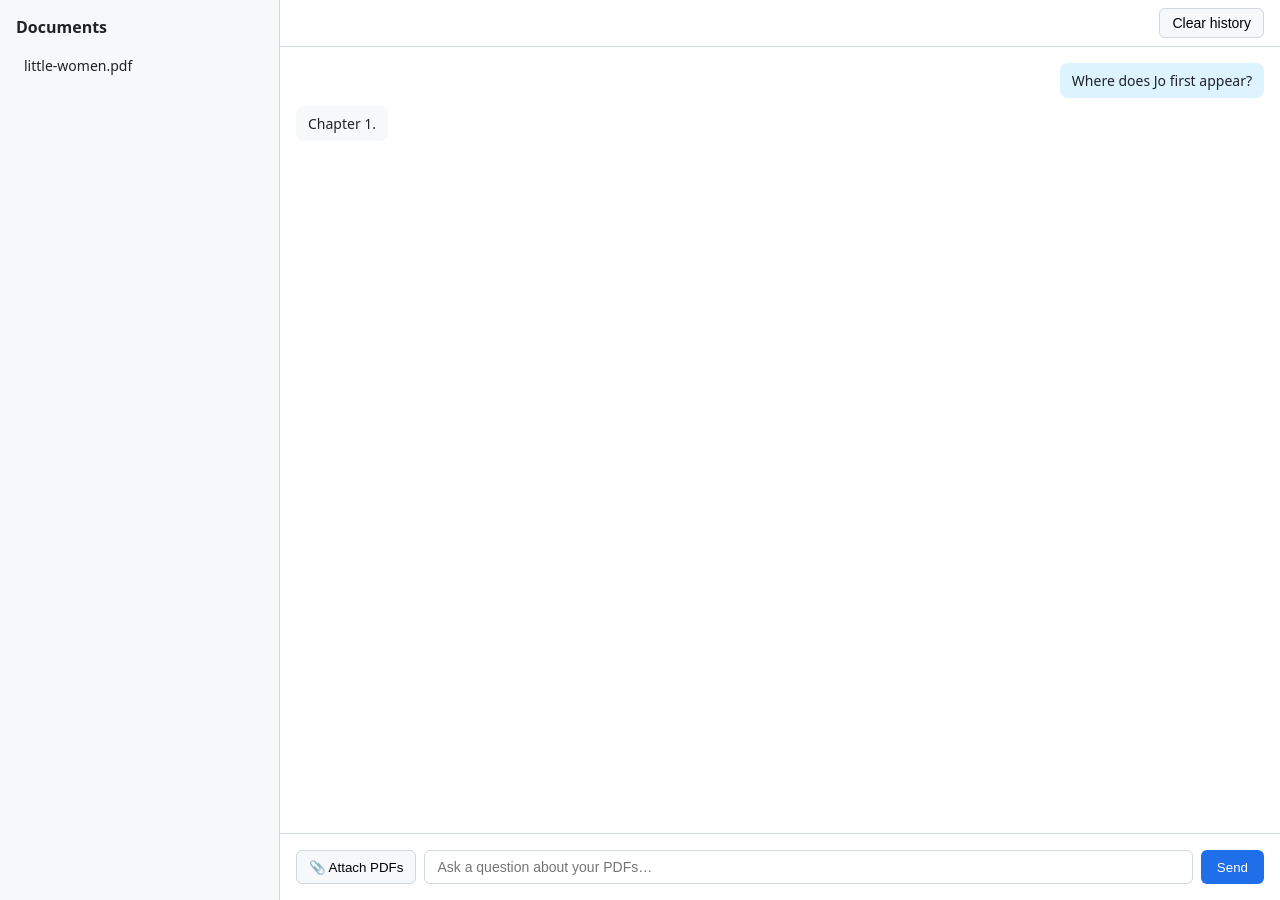
Chat Q&A view › clears the conversation via the clear-history action
This screenshot has width=1280, height=900.
Expected: the list item "Where does Jo first appear?" is shown, [1060, 63, 1264, 98]
Click the button "Clear history": (1212,23) [1159, 8, 1264, 38]
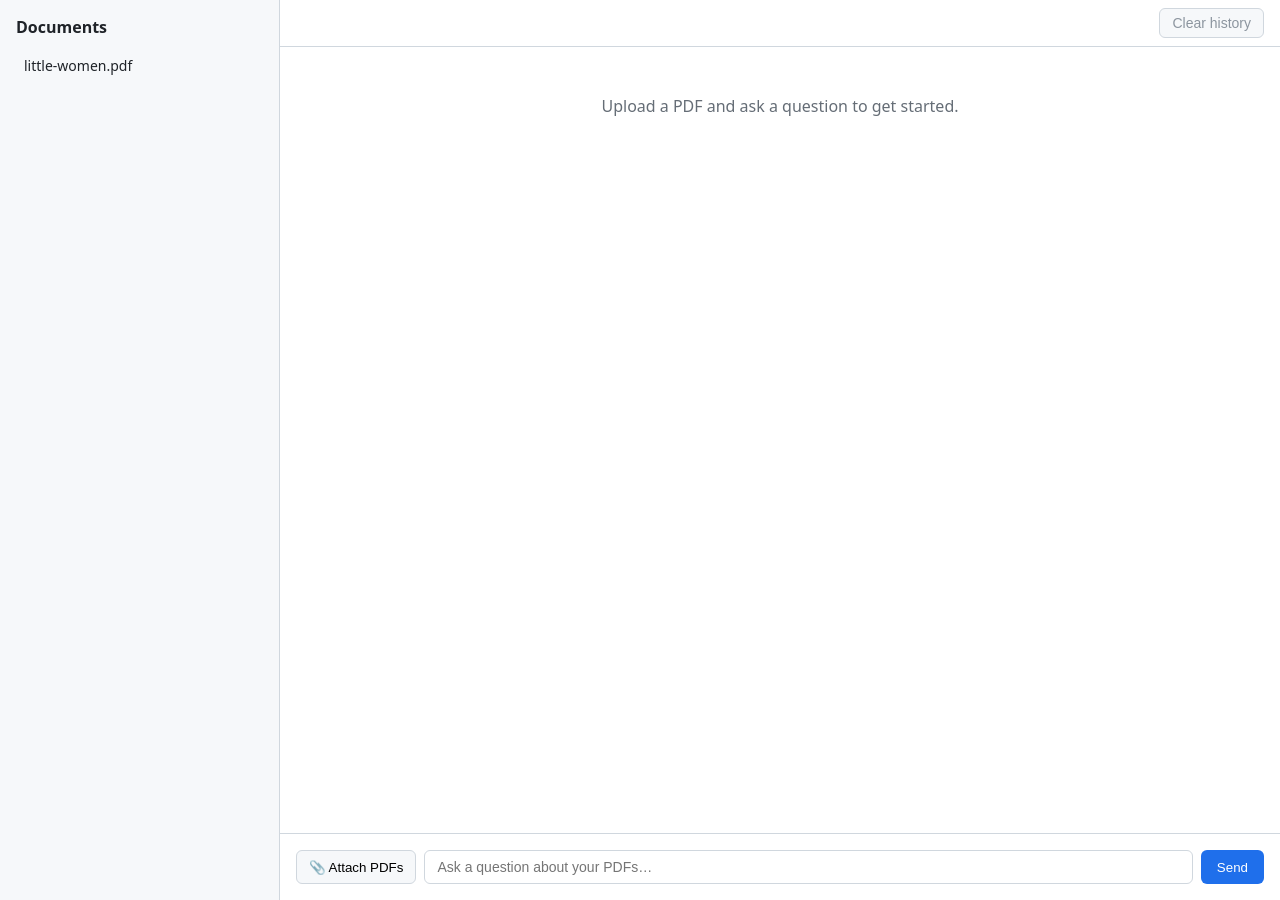
Expected: the list item "Where does Jo first appear?" is gone
Expected: the text "Upload a PDF and ask a question to get started." is shown, [602, 95, 958, 117]
Expected: the button "Clear history" is disabled, [1159, 8, 1264, 38]
